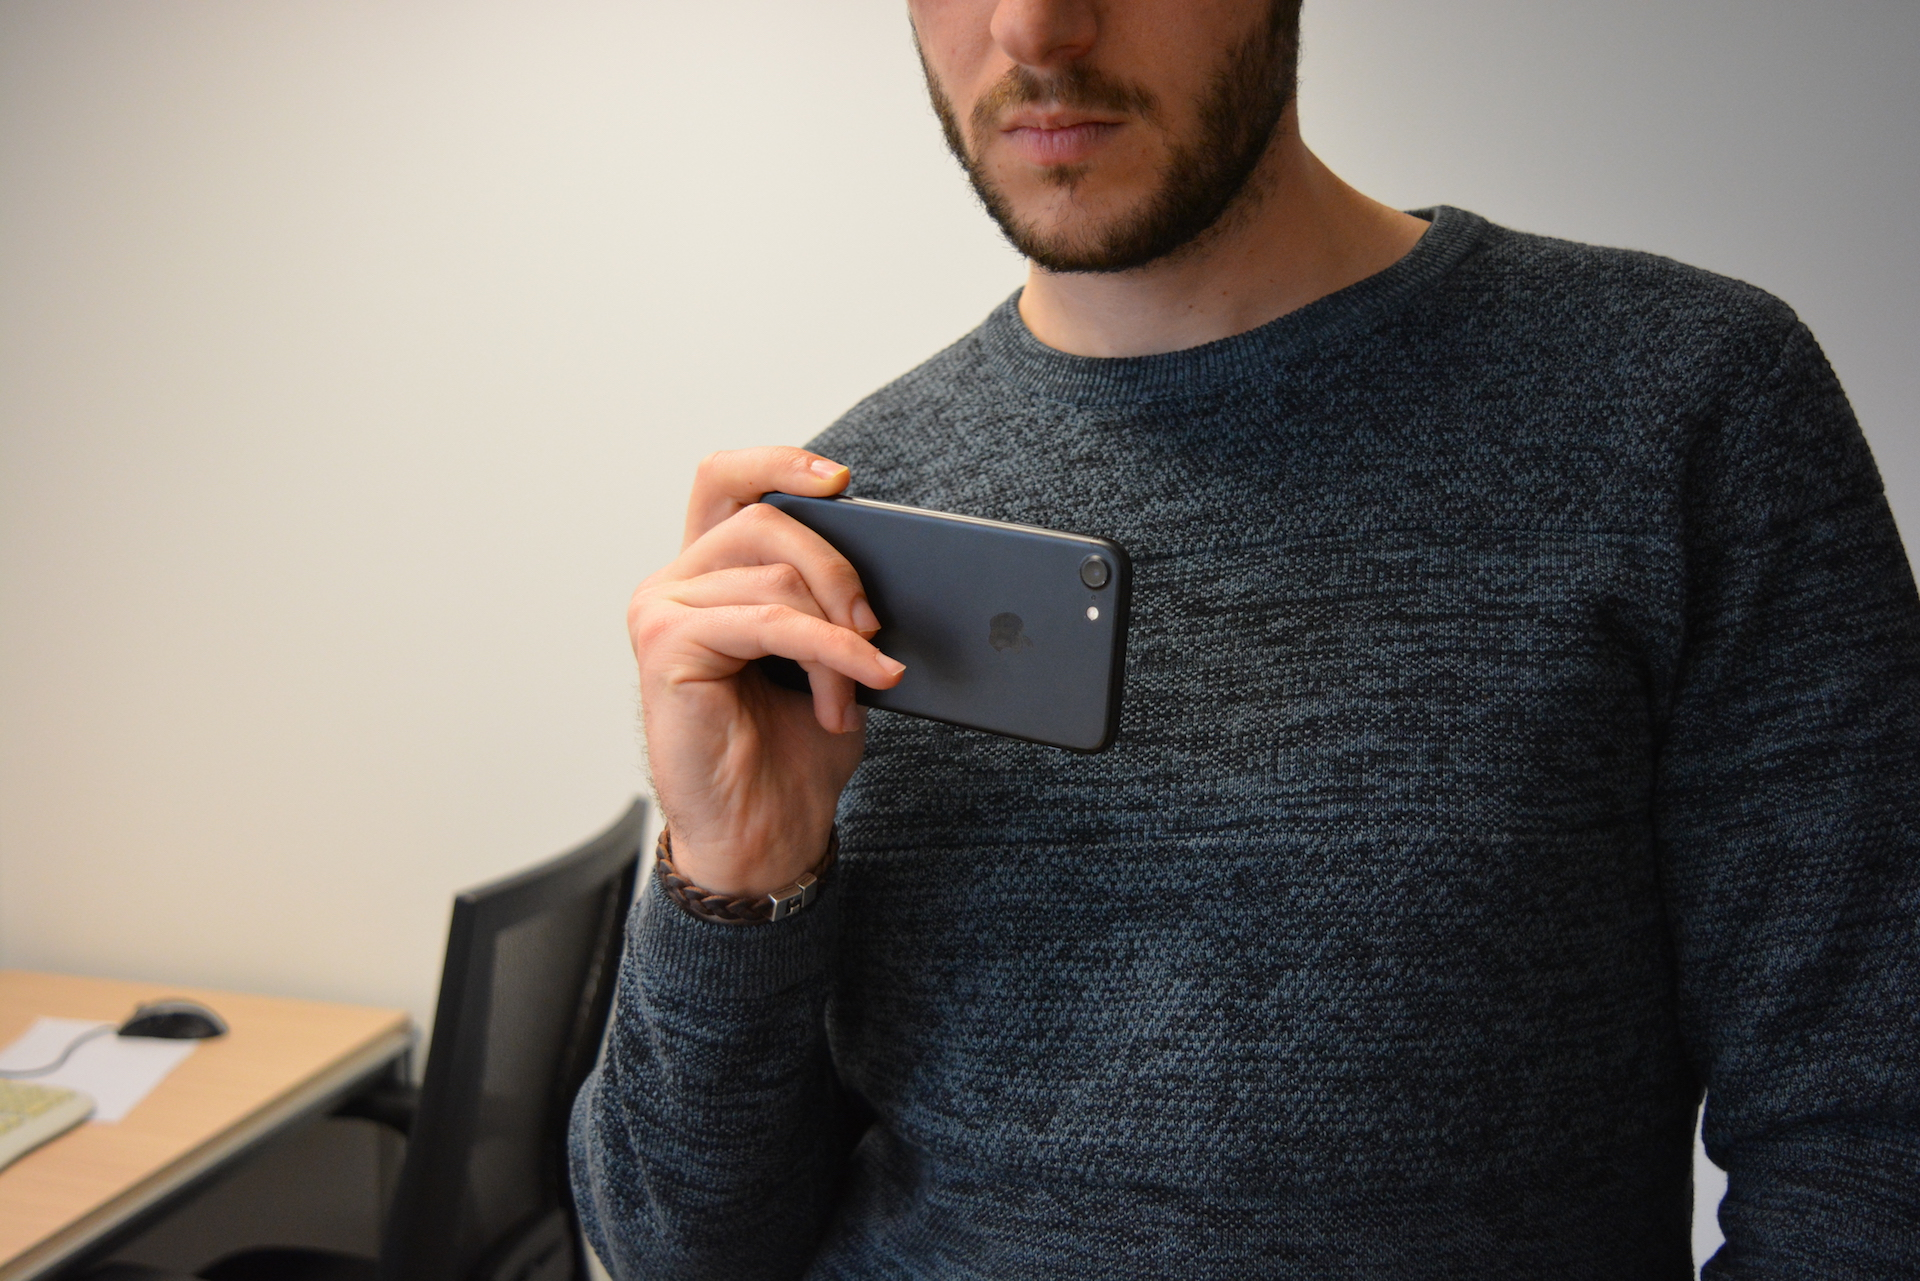smartphone: (738, 480, 1135, 756)
